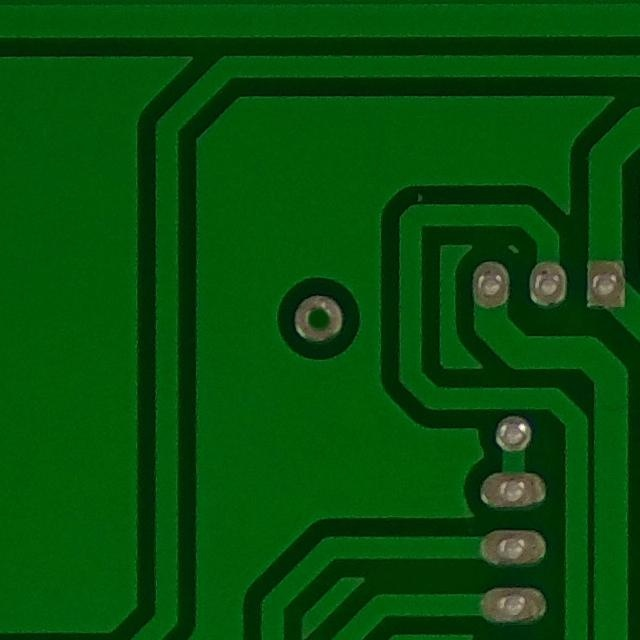missing_hole: (286, 289, 354, 351)
